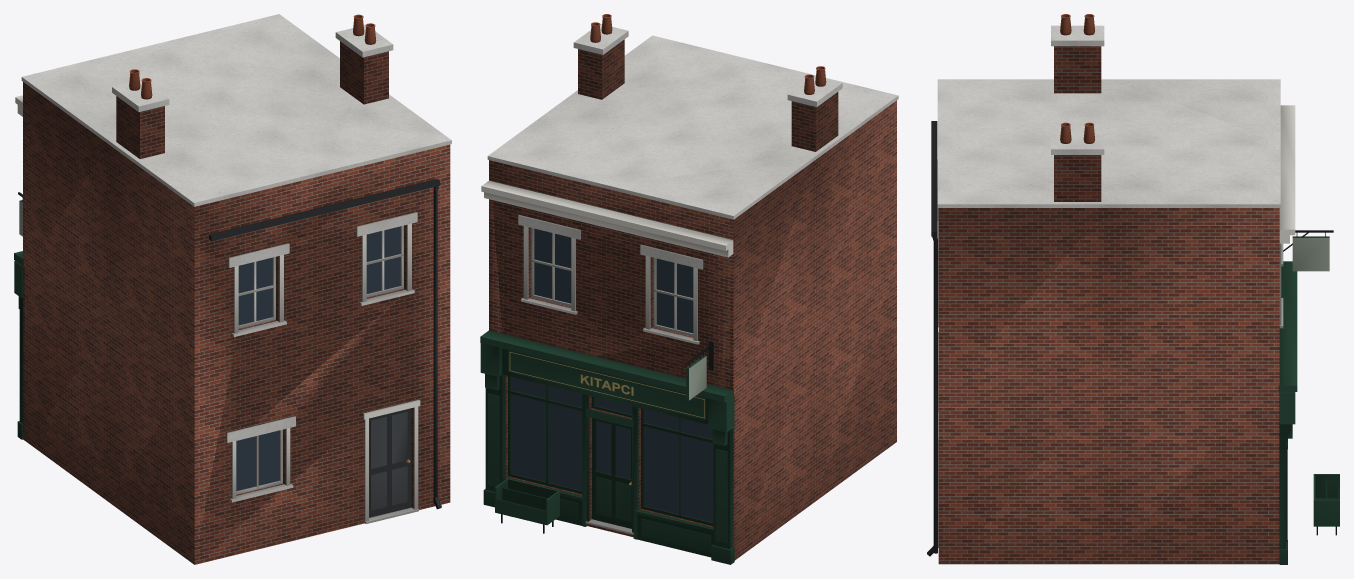
Rendered from bookshop_lod0.glb.
The picture shows the model from 3 angles, left to right: view 1: azimuth 30°, elevation 25°; view 2: azimuth 150°, elevation 25°; view 3: azimuth 270°, elevation 25°; orthographic projection. The views are drawn at different scales.
Parts seen in each view (by area): view 1: bookshop; view 2: bookshop; view 3: bookshop.
Part boxes in pixels (x1,y1,x2,y2): bookshop: (14, 14, 451, 564); bookshop: (480, 14, 898, 564); bookshop: (927, 14, 1339, 564).
Size of the model in its own units: 5.66 by 9.08 by 7.87.
Materials: 8 (6 with a texture image).
